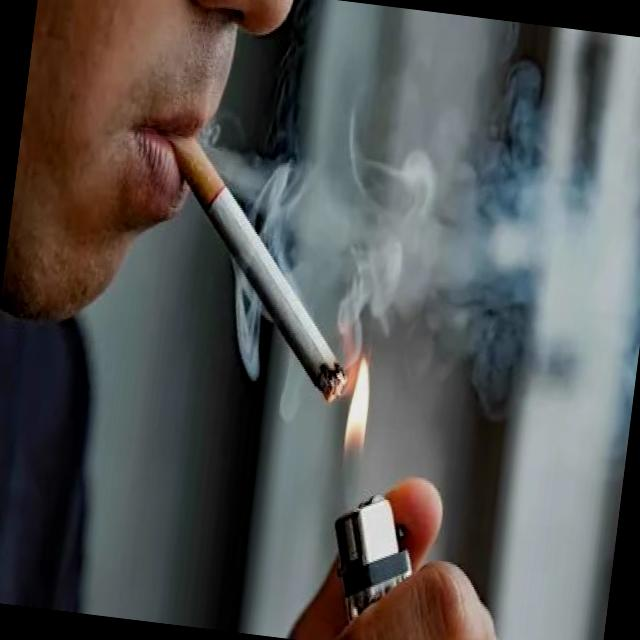cigarette: (136, 126, 374, 405)
